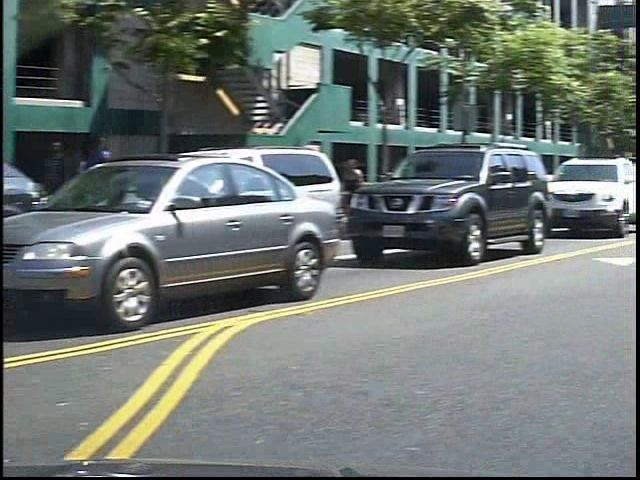person: (87, 130, 138, 257), (352, 155, 382, 231)
